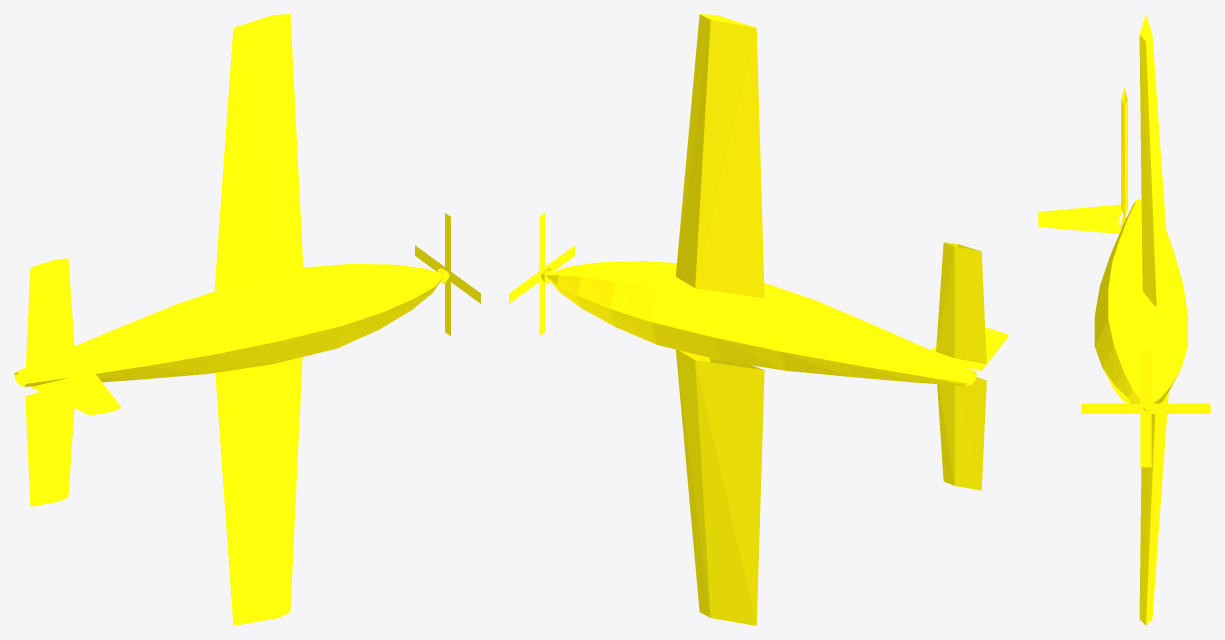
Rendered from sling-tsi.glb.
The picture shows the model from 3 angles, left to right: view 1: azimuth 30°, elevation 25°; view 2: azimuth 150°, elevation 25°; view 3: azimuth 270°, elevation 25°; orthographic projection. The views are drawn at different scales.
Visible parts, largest first — view 1: SlingTSi; view 2: SlingTSi; view 3: SlingTSi.
Part boxes in pixels (x1,y1,x2,y2): SlingTSi: [14, 14, 480, 625]; SlingTSi: [509, 14, 1009, 625]; SlingTSi: [1038, 15, 1210, 625].
Bounding box in the file's own units: 6.88 × 9 × 2.4.
